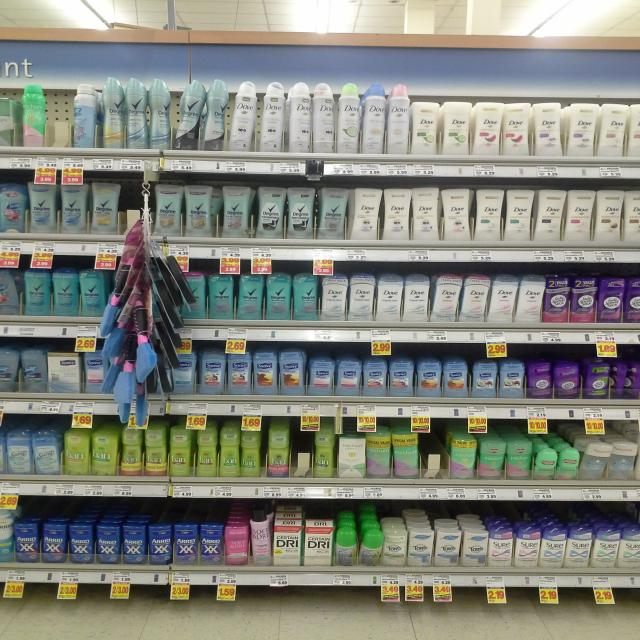empty: (39, 86, 83, 150), (123, 173, 156, 238), (420, 419, 453, 483), (294, 423, 312, 480)
